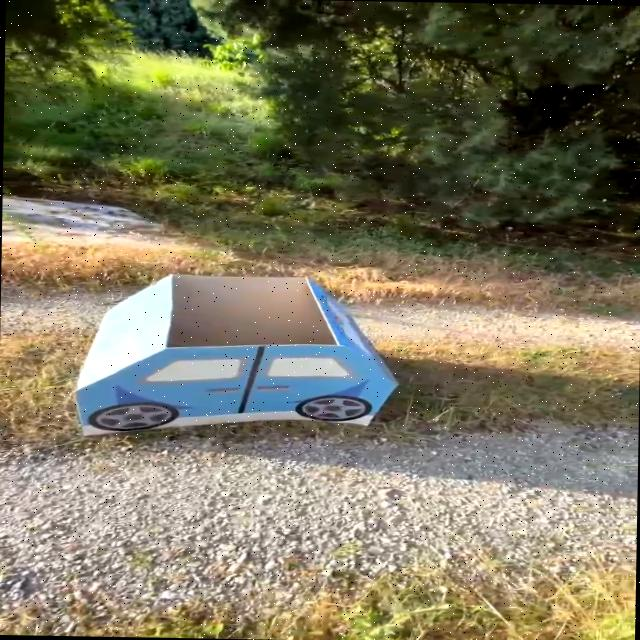blue_car: (26, 253, 421, 464)
